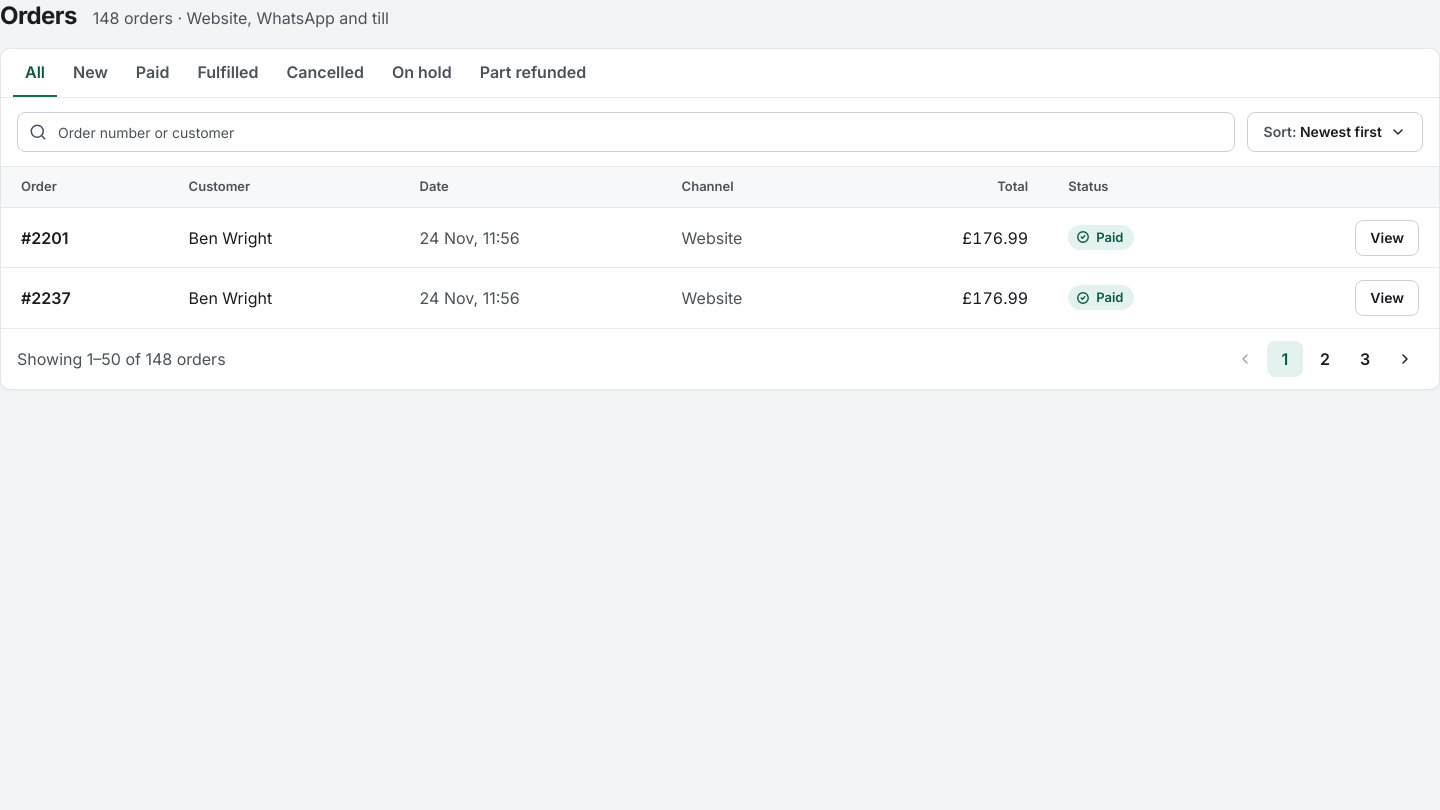
Test: Scanning order numbers › switches to the scanned order while another order is open
The width and height of the screenshot is (1440, 810).
Click the button with aria-label "View order #2201" at [1387, 238], box x1=1355 y1=220 x2=1419 y2=256
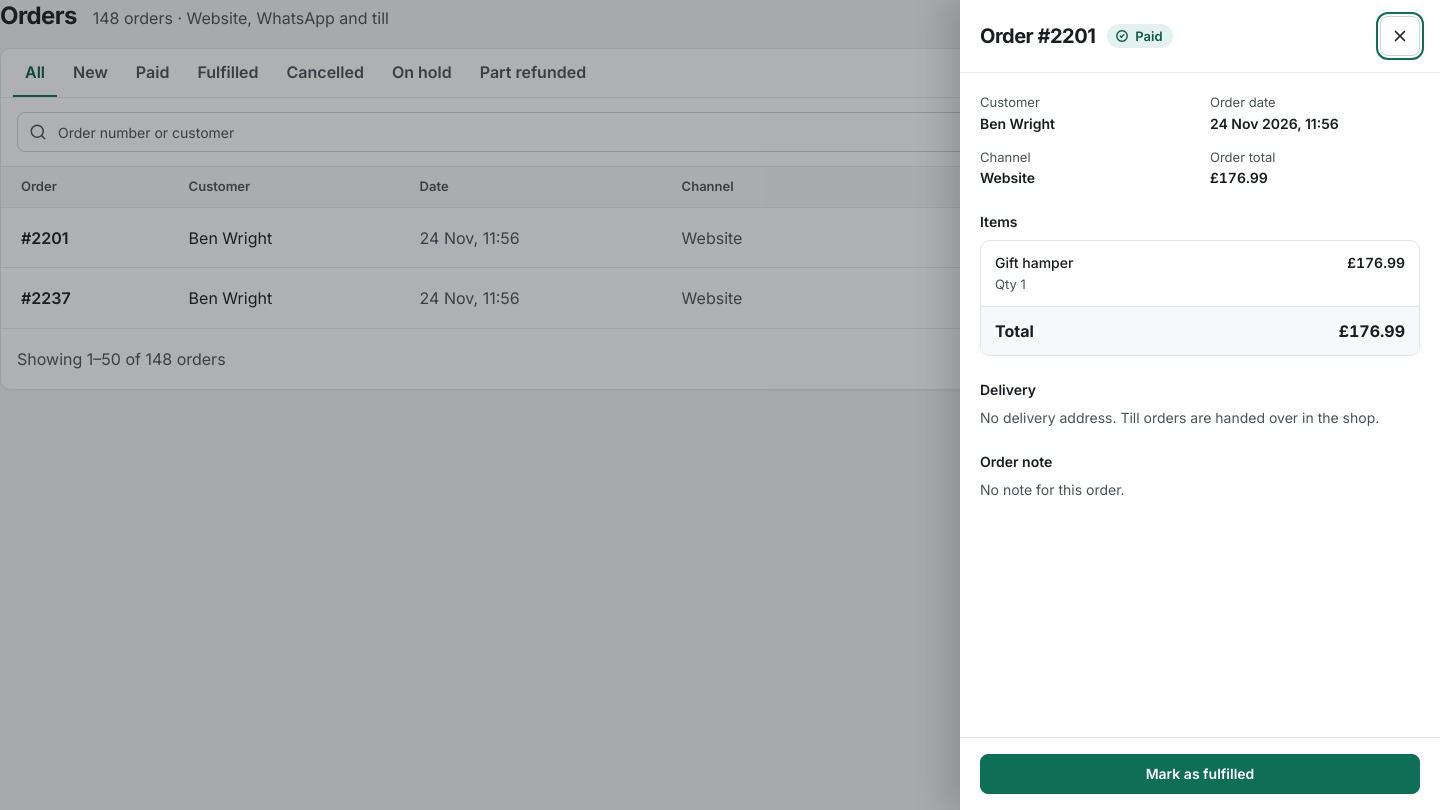
Result: the table named "Items in order #2201" is shown at x1=981 y1=241 x2=1419 y2=355
Type keys "2345{Enter}"
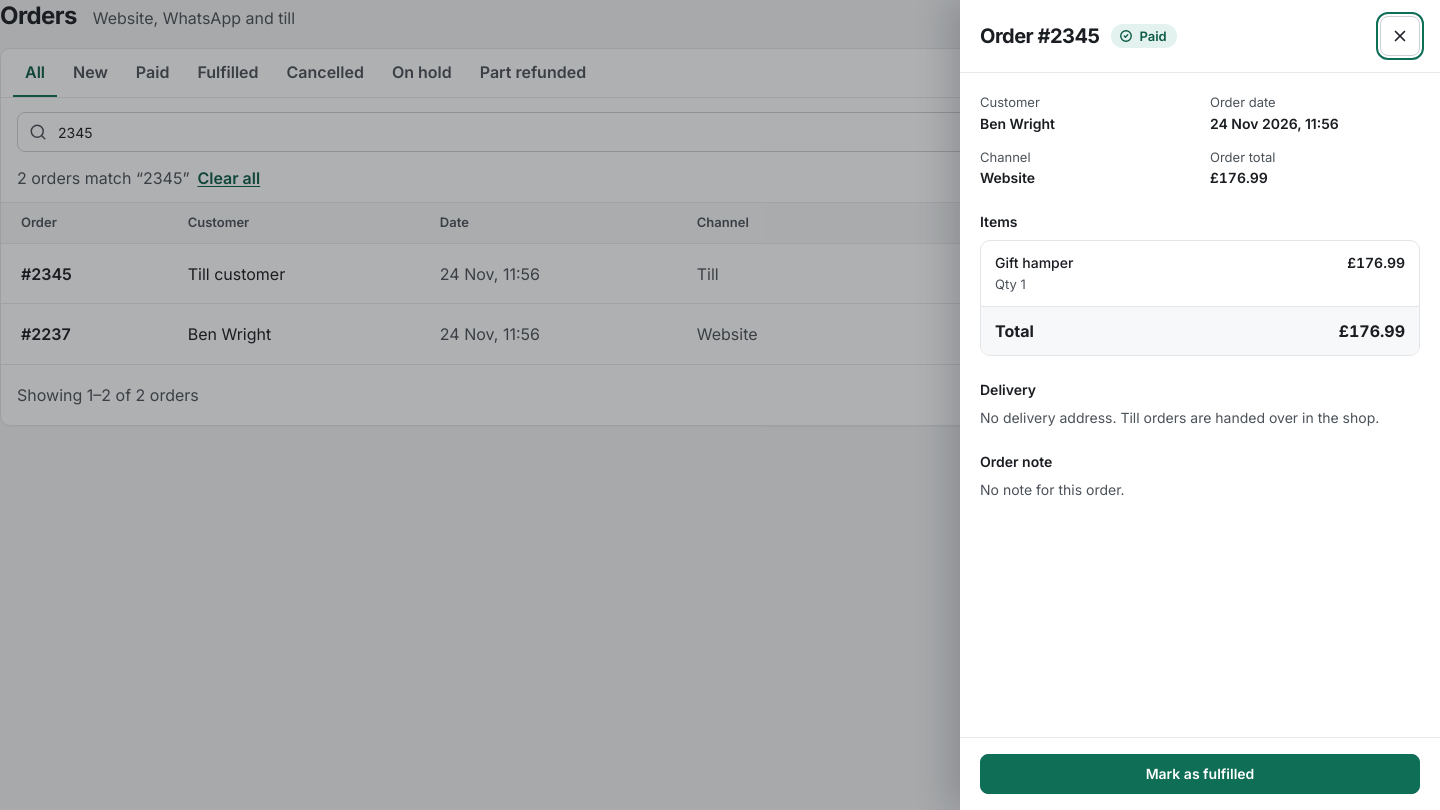
Result: the dialog "Order #2345" is shown at x1=960 y1=0 x2=1439 y2=809
Result: the field named "Search orders" holds "2345" at x1=17 y1=112 x2=1234 y2=152
